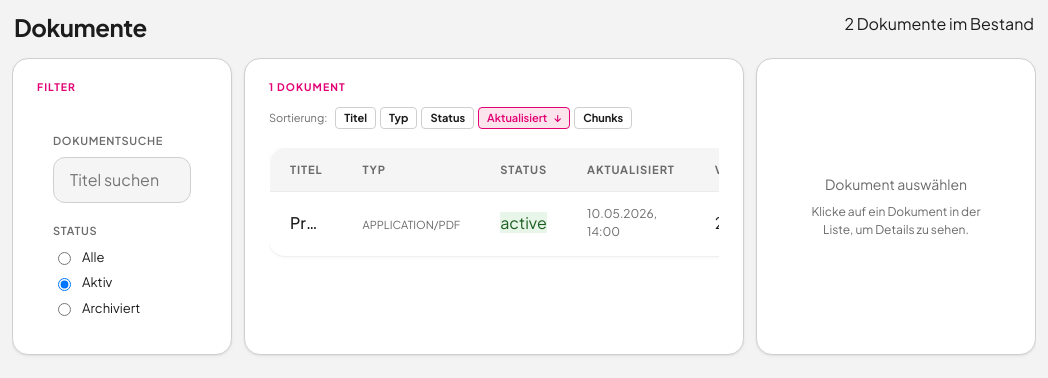
Test: DocumentCenterPage › filters to archived when Archiviert is selected
Expected: the text "Prozesshandbuch Eingang" is shown, [290,212,322,236]
Expected: the text "Altlast Handbuch 2020" is not shown
Click the radio button labelled "Archiviert" at point(64, 310), box [58,303,71,316]
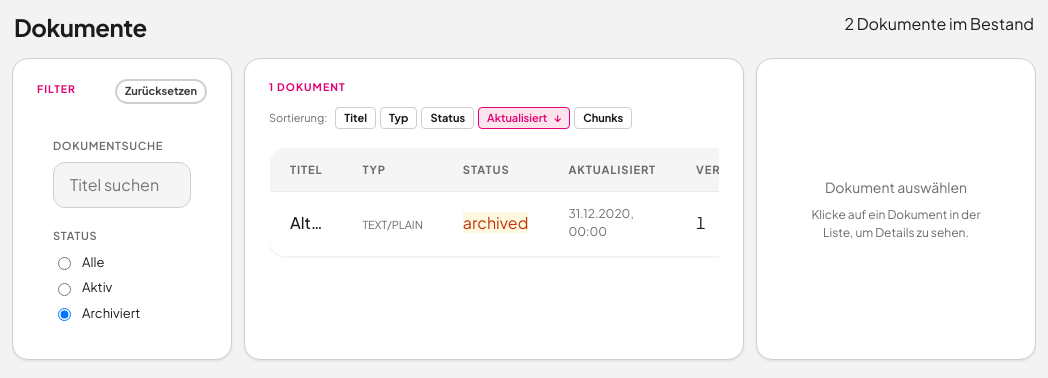
Expected: the text "Altlast Handbuch 2020" is shown, [290,212,322,236]
Expected: the text "Prozesshandbuch Eingang" is gone
